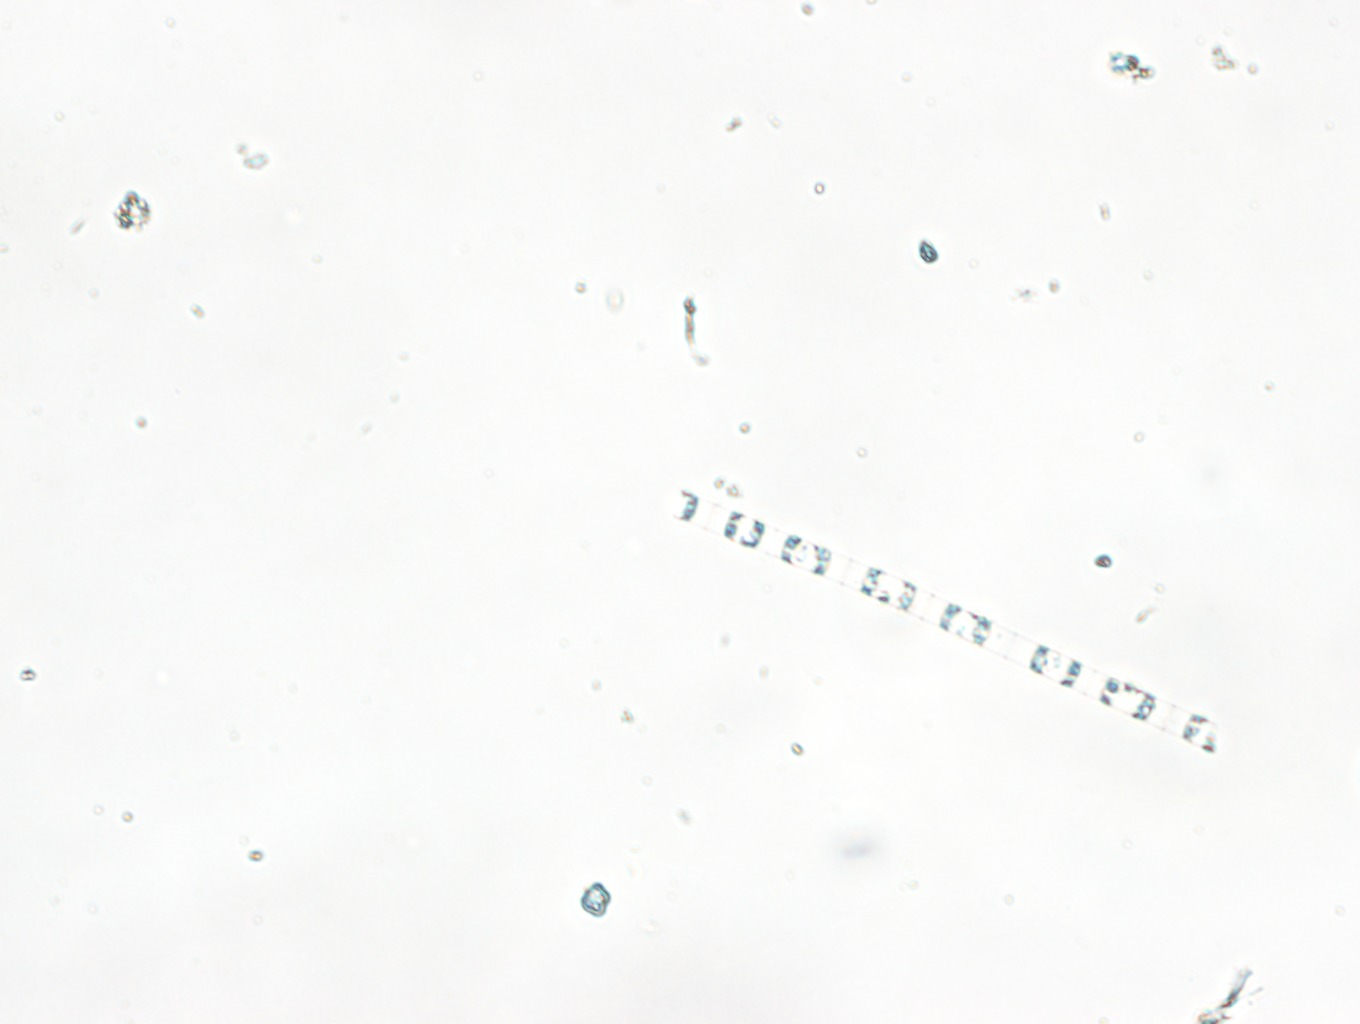skeletonema: (661, 484, 1220, 755)
